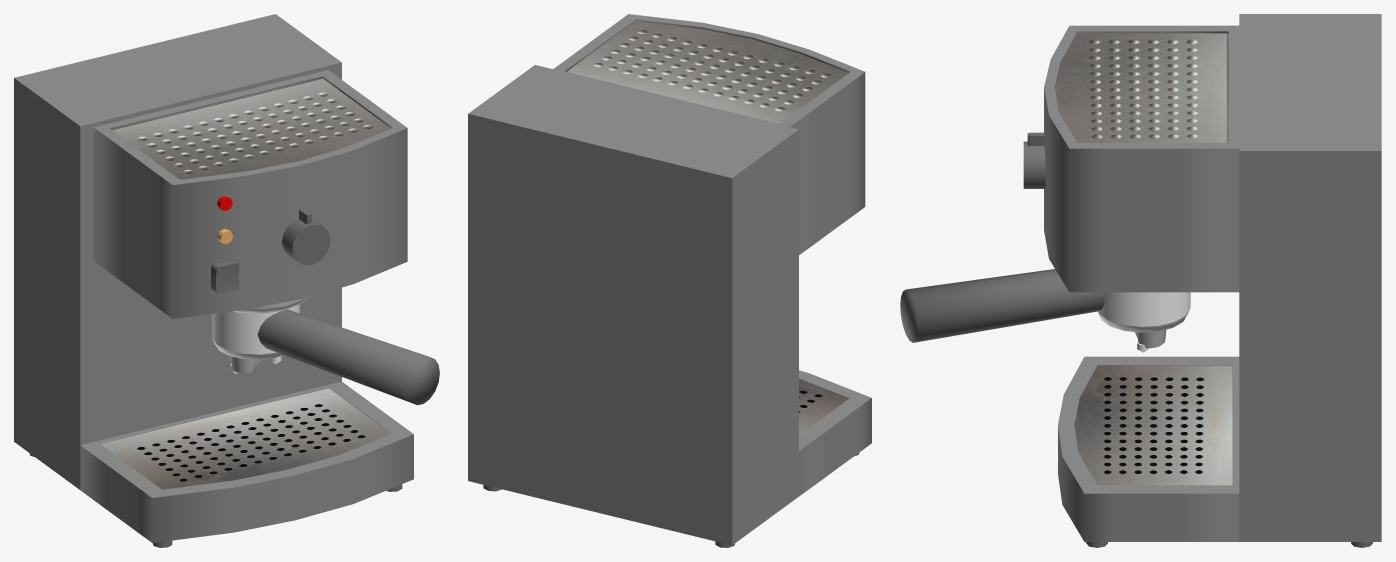
The model's file is cafetera.glb.
The picture shows the model from 3 angles, left to right: view 1: azimuth 30°, elevation 25°; view 2: azimuth 150°, elevation 25°; view 3: azimuth 270°, elevation 25°; orthographic projection. The views are drawn at different scales.
Parts seen in each view (by area): view 1: cafetera; view 2: cafetera; view 3: cafetera.
Part boxes in pixels (x1=…): cafetera: x1=14, y1=14, x2=439, y2=547; cafetera: x1=468, y1=14, x2=871, y2=547; cafetera: x1=900, y1=14, x2=1381, y2=547.
Size of the model in its own units: 20.5 by 27.9 by 30.4.
Materials: 8 (2 with a texture image).
